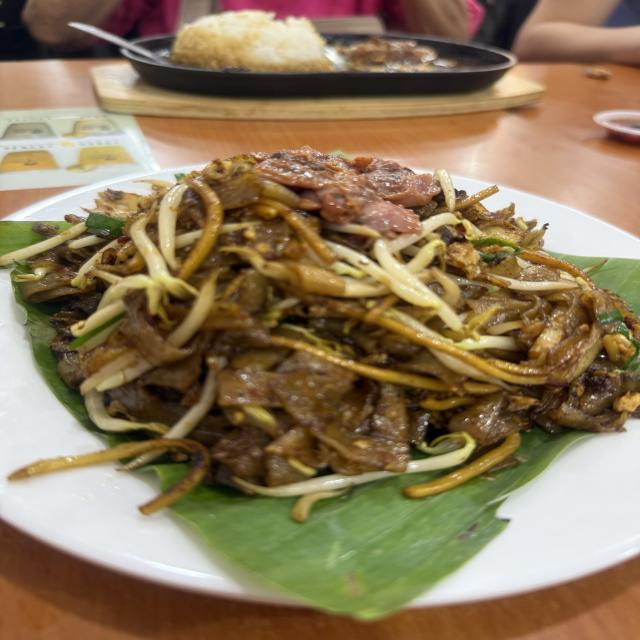Char Kway Teow: (28, 136, 612, 536)
